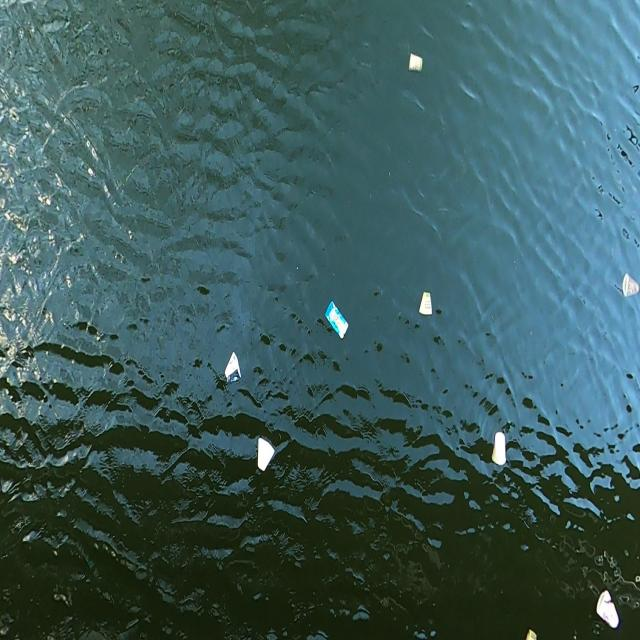Non plastique: (590, 581, 620, 635), (322, 297, 350, 348), (484, 428, 513, 469), (251, 436, 277, 477), (219, 348, 243, 389), (416, 288, 438, 321), (406, 47, 426, 80), (618, 273, 640, 300)
